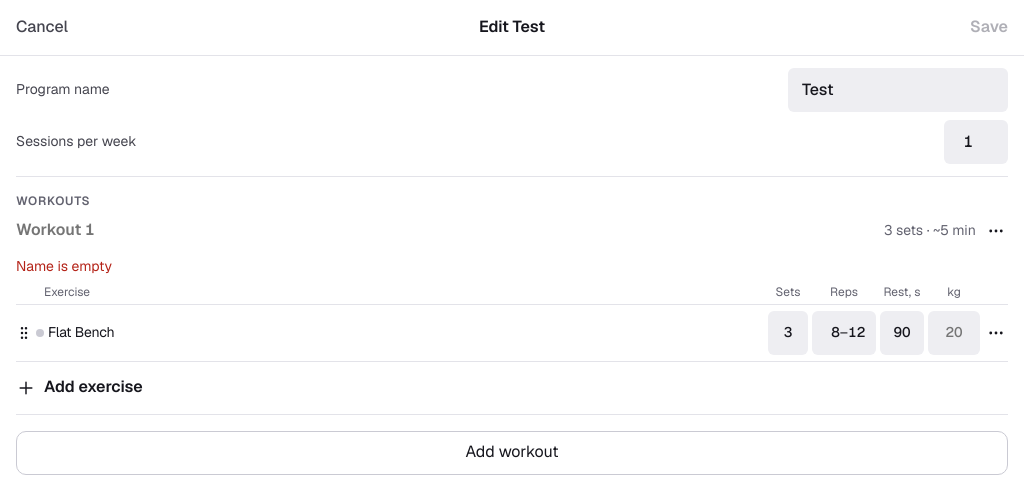
O16 the blank-workout-name fault disables Save and is the accessible description of that Workout's Workout name, until fixed
The width and height of the screenshot is (1024, 492).
Expected: the button "Save" is disabled, [970,6,1008,50]
In the field named "Workout name": (446, 231) [16,209,876,253], type "Upper"
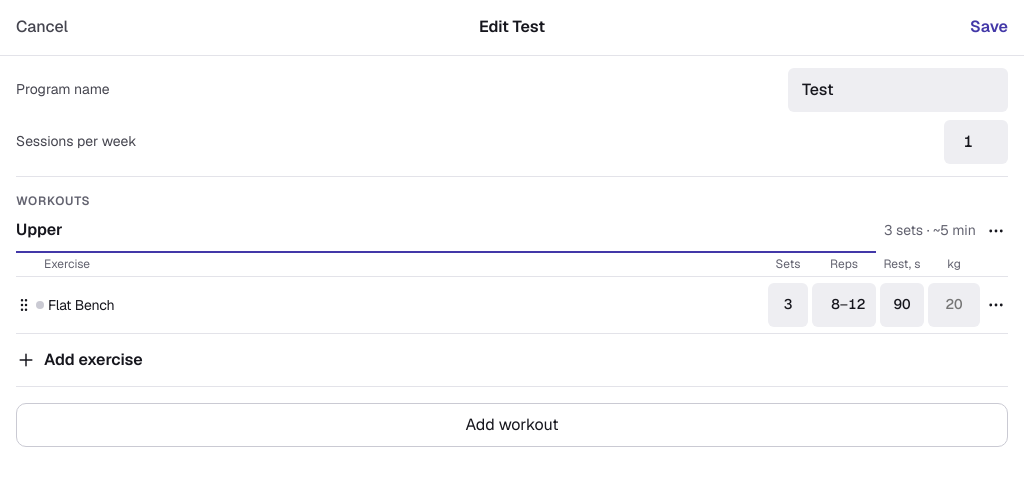
Expected: the text "Name is empty" is gone
Expected: the button "Save" is enabled, [970,6,1008,50]
